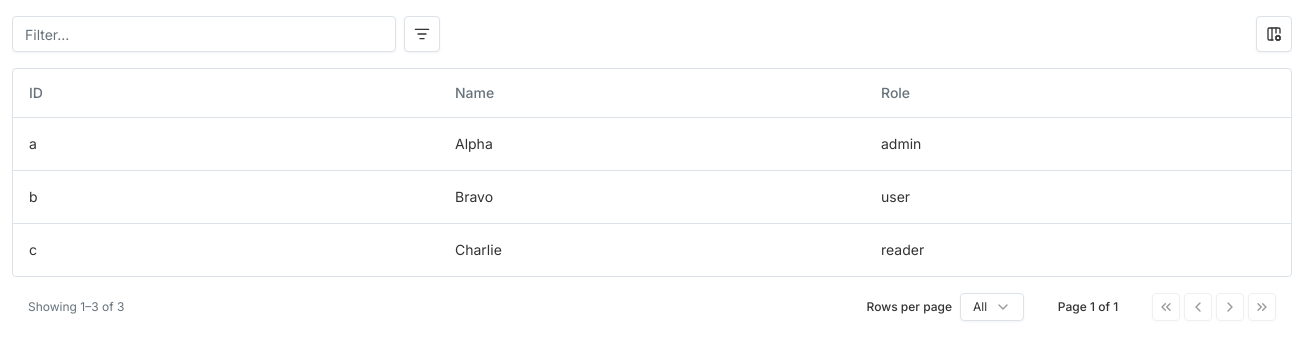
Test: DataTable — multi-column search › narrows the search when the picker disables a candidate
Click the button named "Search in".
click(422, 34)  # box [404,16,440,52]
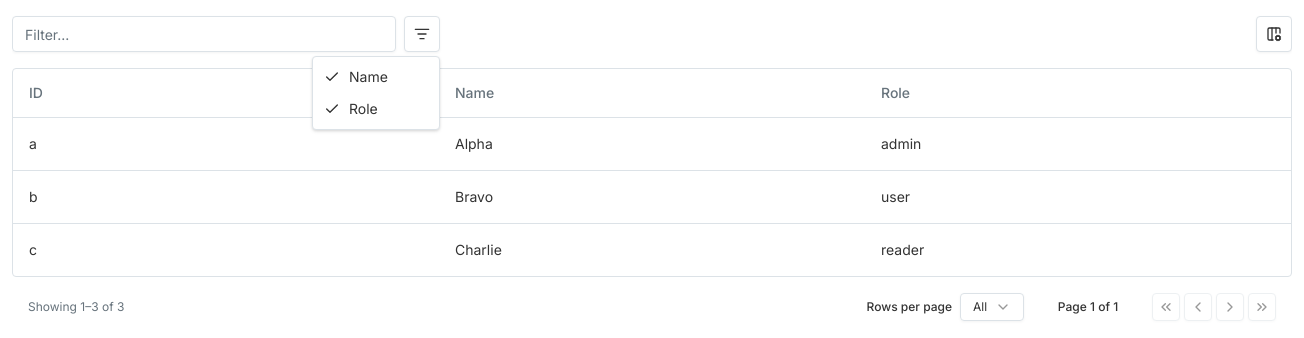
Note: Uncheck the `Role` column so "reader" can no longer match Charlie.
Click the menu item "role".
click(351, 108)  # box [324,100,378,117]
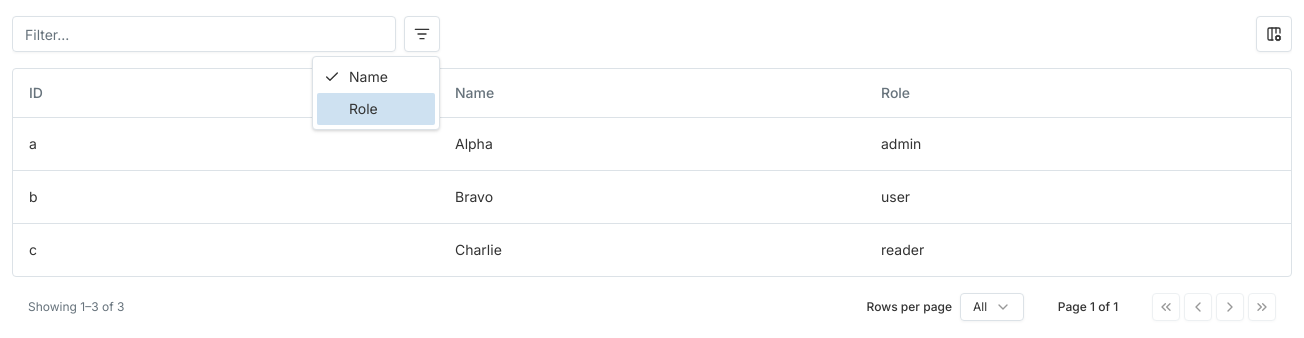
Press Escape
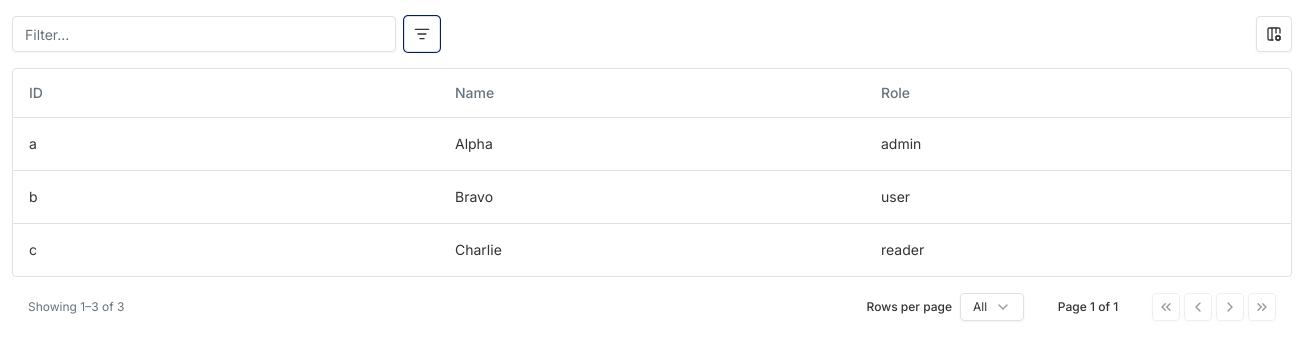
Type "reader" into the field with placeholder "Filter...".
click(204, 34); type("reader")  # box [13,16,395,52]
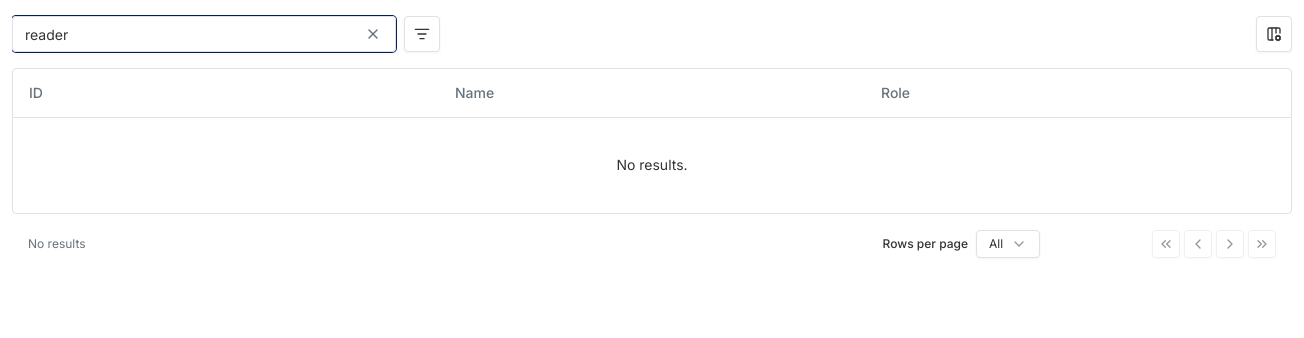
Expected: the text "No results." is shown, [13,117,1291,213]
